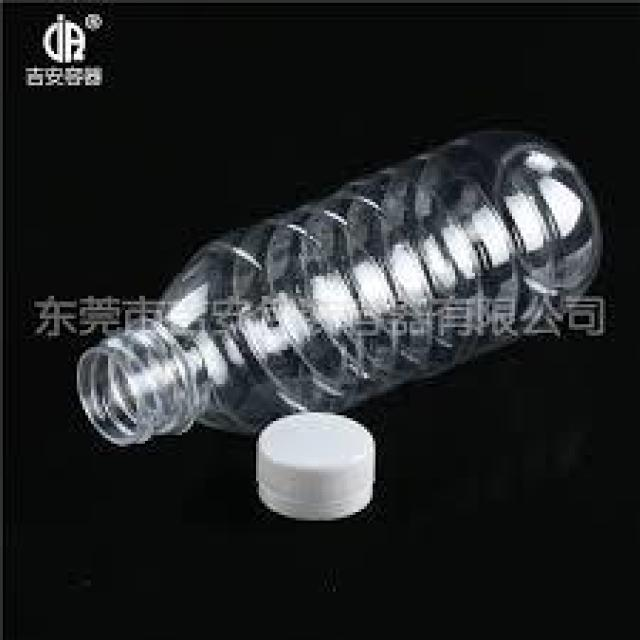-Recyclables - plastic bottle-: (78, 128, 604, 445)
